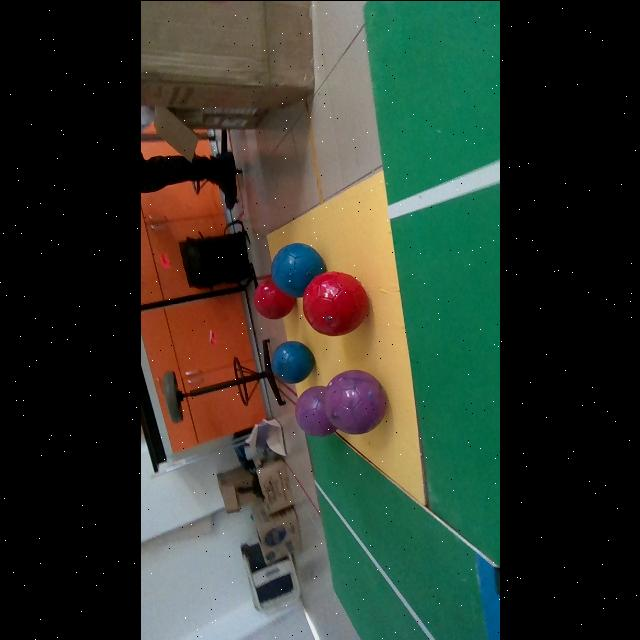B: (271, 242, 325, 296), (271, 341, 314, 383)
P: (325, 370, 386, 434), (294, 385, 335, 435)
R: (304, 273, 368, 335), (254, 278, 294, 318)
